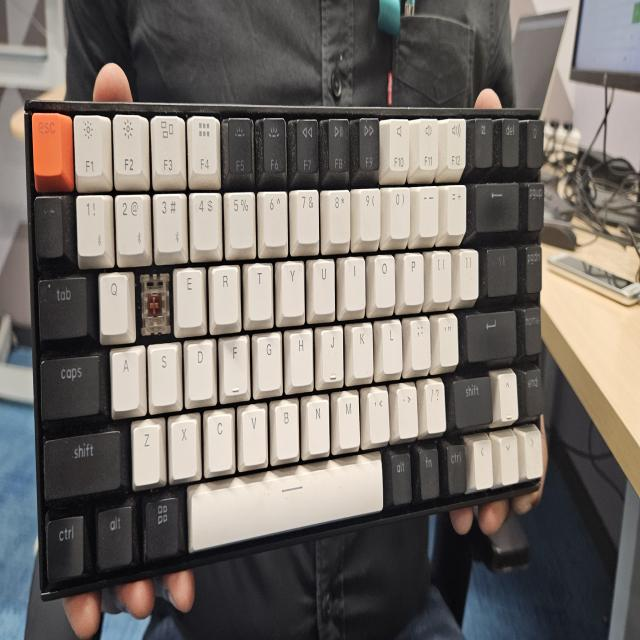C: (138, 274, 168, 332)
